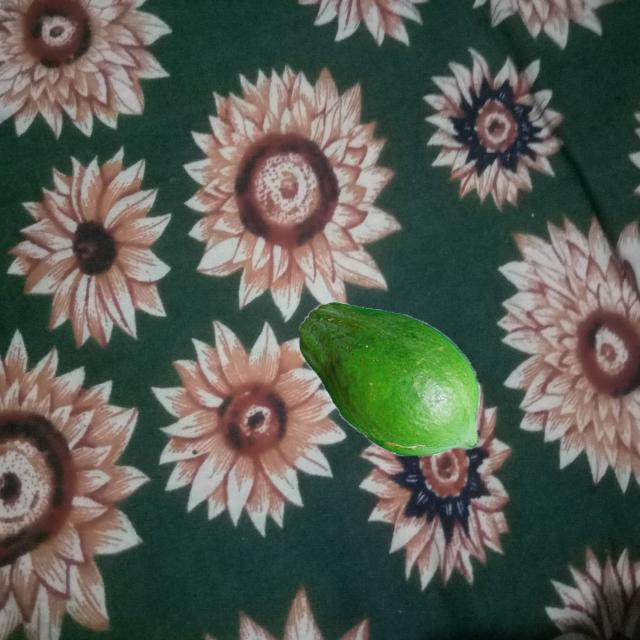Pepaya unrippen: (294, 297, 488, 457)
